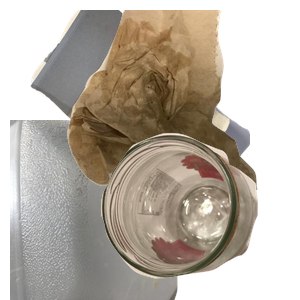glass: (98, 131, 300, 300)
paper: (28, 10, 268, 190)
plastic: (10, 120, 190, 300)
trash: (65, 10, 300, 190)
